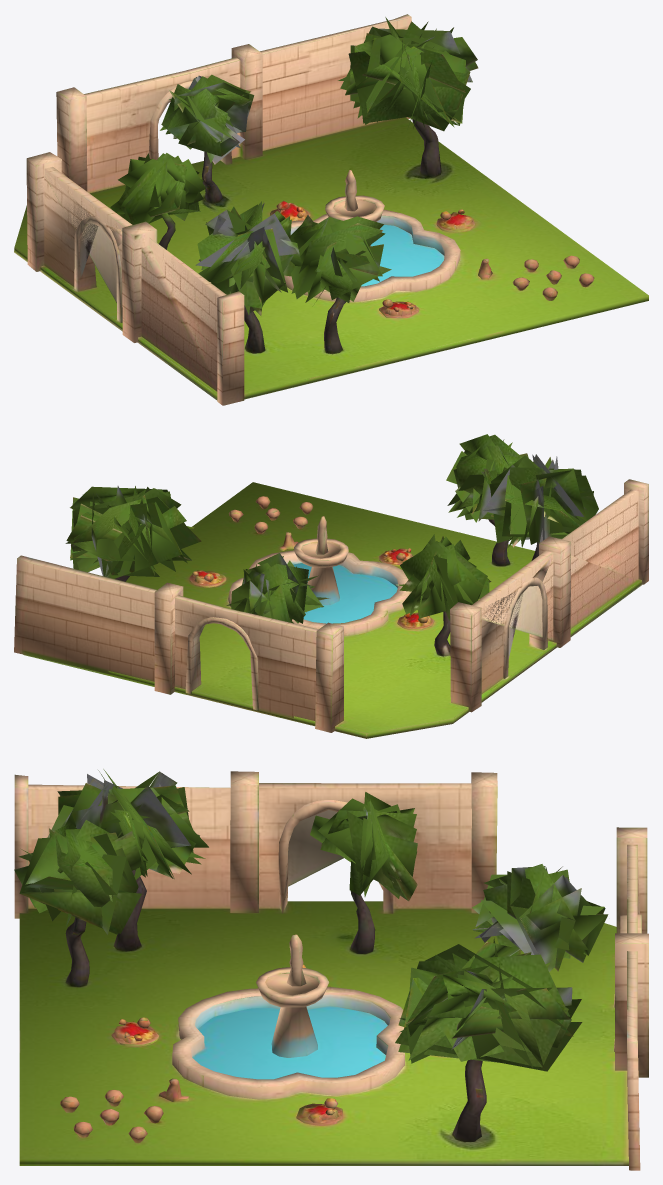
File: park.glb
3 renders of one model, top to bottom at view 1: azimuth 30°, elevation 25°; view 2: azimuth 150°, elevation 25°; view 3: azimuth 270°, elevation 25°, orthographic. The views are drawn at different scales.
Bounding box in the file's own units: 0.9585 × 0.3052 × 0.9648.
1 material, 1 textured.
